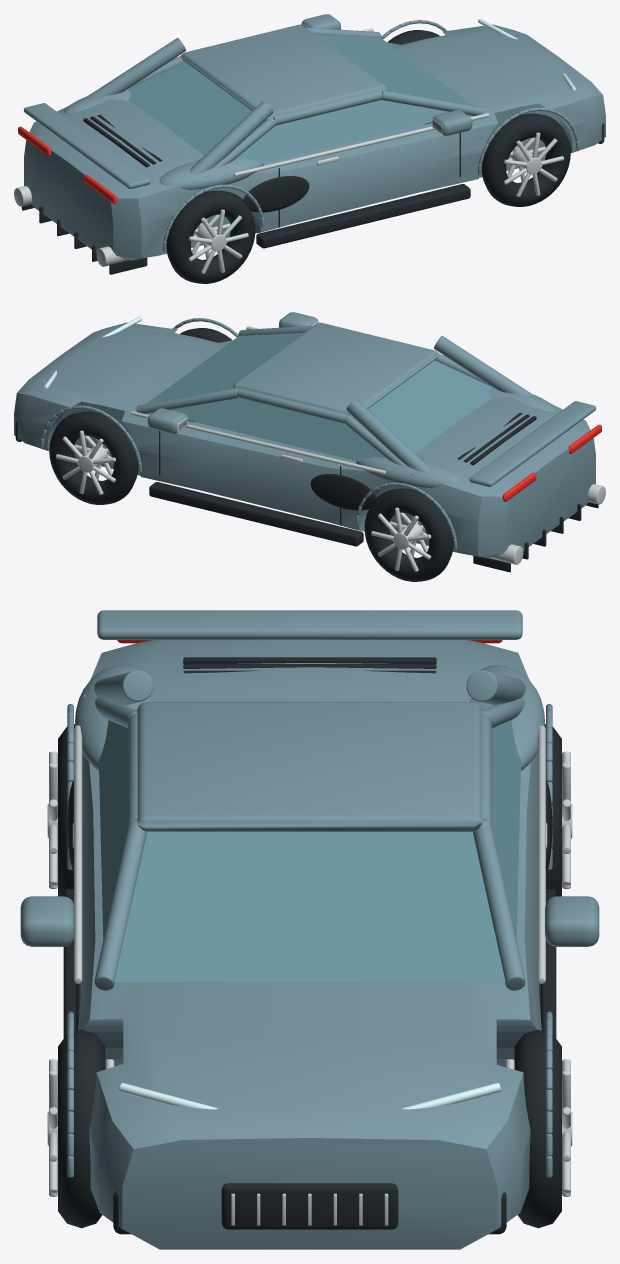
The model's file is RosaM.fbx.
3 views of the same model, one above another, from view 1: azimuth 30°, elevation 25°; view 2: azimuth 150°, elevation 25°; view 3: azimuth 270°, elevation 25° (orthographic). The views are drawn at different scales.
Visible parts, largest first — view 1: BodyPaint, Glazing, TrimRubber, TrimRubber.001, TrimRubber.002, BrushedAlloy, BrushedAlloy.001, BrushedAlloy.002, Taillamp, TrimRubber.004; view 2: BodyPaint, Glazing, TrimRubber, TrimRubber.003, TrimRubber.004, BrushedAlloy, BrushedAlloy.003, BrushedAlloy.004, Taillamp, TrimRubber.002; view 3: BodyPaint, Glazing, TrimRubber, TrimRubber.004, TrimRubber.002, BrushedAlloy, TrimRubber.001, TrimRubber.003, Headlamp, BrushedAlloy.004, BrushedAlloy.002, BrushedAlloy.001 (+1 smaller).
Boxes of the visible parts, x1,y1,x2,y2 form: BodyPaint: [23, 14, 605, 260]; Glazing: [128, 34, 473, 163]; TrimRubber: [21, 114, 604, 274]; TrimRubber.001: [166, 190, 255, 283]; TrimRubber.002: [481, 113, 570, 206]; BrushedAlloy: [14, 22, 489, 266]; BrushedAlloy.001: [188, 209, 248, 273]; BrushedAlloy.002: [504, 132, 563, 196]; Taillamp: [18, 126, 117, 203]; TrimRubber.004: [387, 30, 439, 44]; BodyPaint: [14, 312, 596, 558]; Glazing: [146, 332, 491, 461]; TrimRubber: [15, 412, 598, 572]; TrimRubber.003: [364, 488, 453, 581]; TrimRubber.004: [49, 411, 138, 504]; BrushedAlloy: [130, 320, 605, 564]; BrushedAlloy.003: [371, 507, 431, 571]; BrushedAlloy.004: [56, 430, 115, 494]; Taillamp: [502, 424, 601, 501]; TrimRubber.002: [180, 328, 232, 342]; BodyPaint: [20, 610, 599, 1249]; Glazing: [98, 709, 521, 981]; TrimRubber: [63, 657, 556, 1234]; TrimRubber.004: [514, 1029, 561, 1228]; TrimRubber.002: [58, 1029, 105, 1228]; BrushedAlloy: [72, 725, 547, 1225]; TrimRubber.001: [58, 724, 75, 896]; TrimRubber.003: [544, 724, 561, 896]; Headlamp: [119, 1083, 500, 1109]; BrushedAlloy.004: [505, 1059, 572, 1196]; BrushedAlloy.002: [47, 1059, 114, 1196]; BrushedAlloy.001: [47, 751, 57, 889].
Size of the model in its own units: 516 by 150 by 256.
